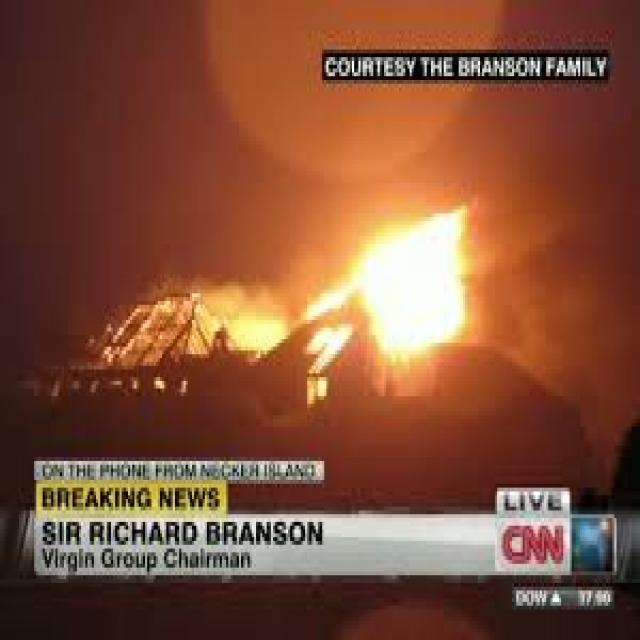Fire: (301, 208, 470, 402)
Smoke: (488, 194, 640, 395), (116, 278, 288, 356)
